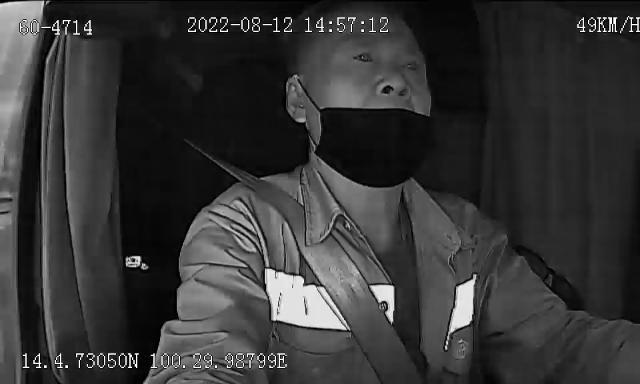SafeDriving: (368, 71, 414, 104), (393, 52, 426, 78)
Seatbelt: (224, 162, 424, 384)
